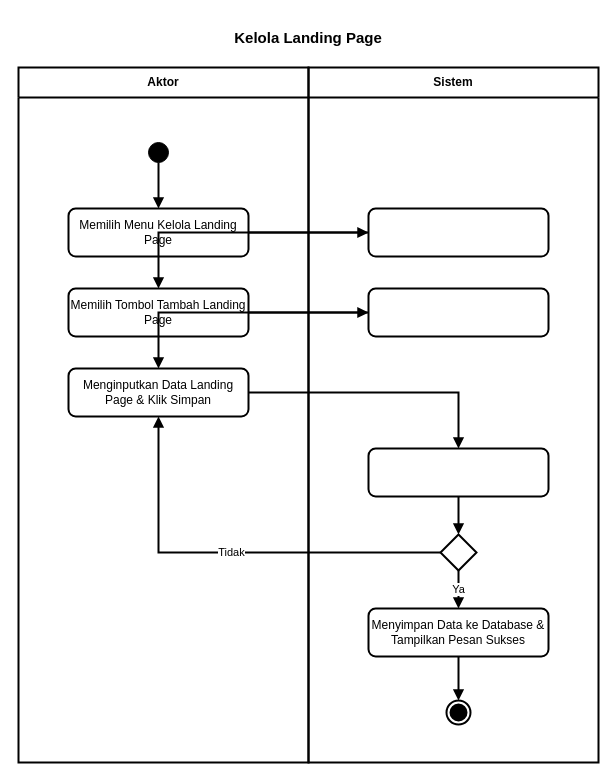
Image size: 616x780. Some labels were removed from this diagram. The shapes that lost their labels are listed below. From the top down, each one's centre as x and y in pixels, then its label:
[458,232]: Menampilkan Daftar Data Landing Page
[458,312]: Menampilkan Form Input
[458,472]: Memvalidasi Data
